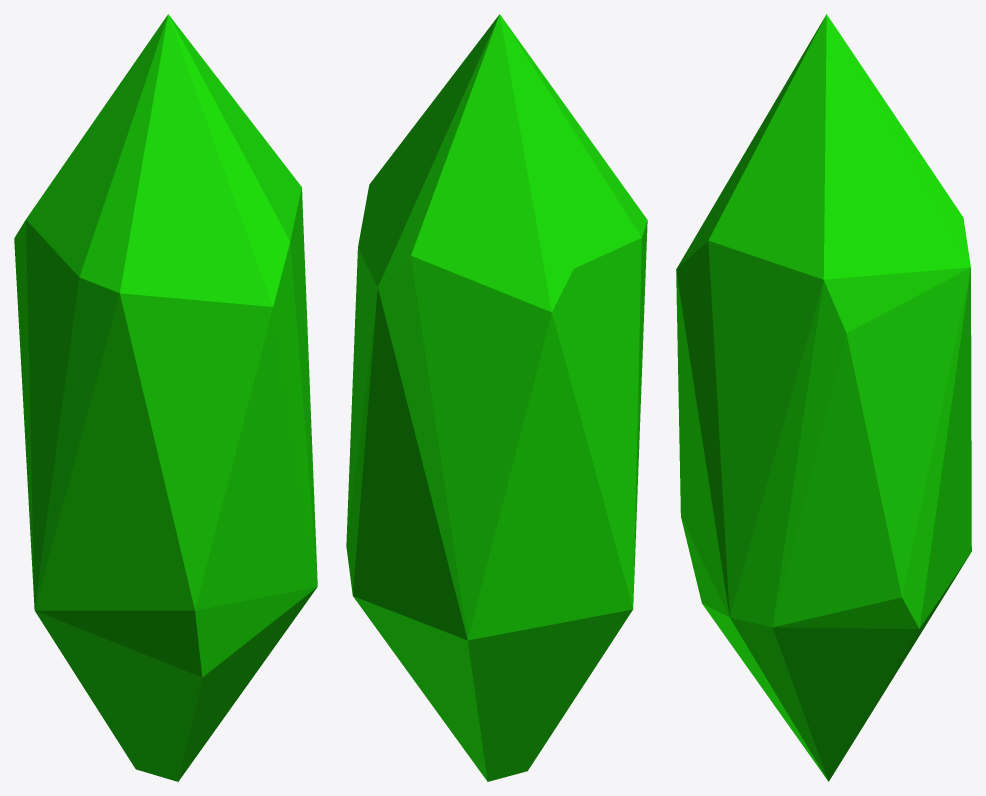
File: Cristal.006.fbx
3 views of the same model, side by side, from view 1: azimuth 30°, elevation 25°; view 2: azimuth 150°, elevation 25°; view 3: azimuth 270°, elevation 25° (orthographic).
Parts seen in each view (by area): view 1: Icosphere.003; view 2: Icosphere.003; view 3: Icosphere.003.
Boxes of the visible parts, x1,y1,x2,y2 form: Icosphere.003: (14,14,317,781); Icosphere.003: (346,14,647,781); Icosphere.003: (676,14,971,781).
Bounding box in the file's own units: 165 × 458 × 161.
